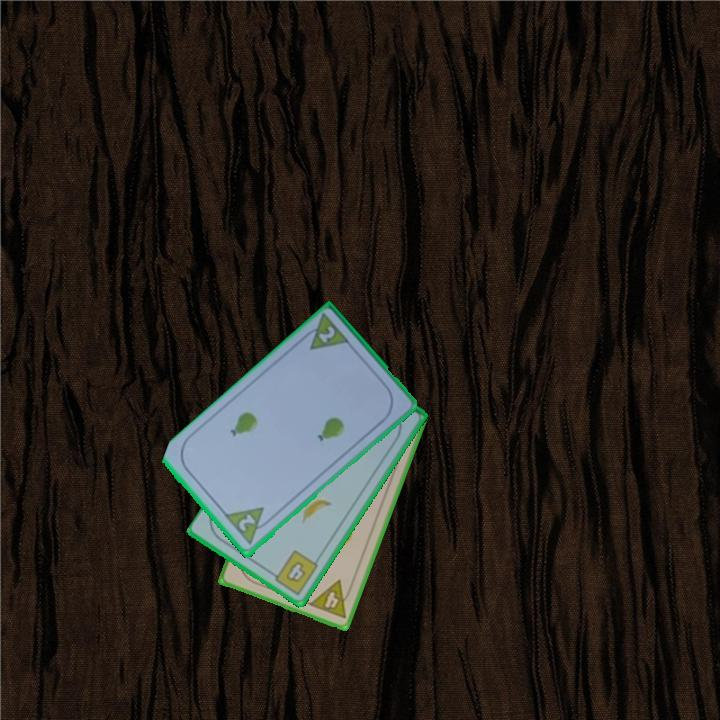2p: (298, 311, 353, 353), (235, 511, 258, 535)
4b: (267, 546, 322, 598)
4p: (305, 576, 356, 622)
